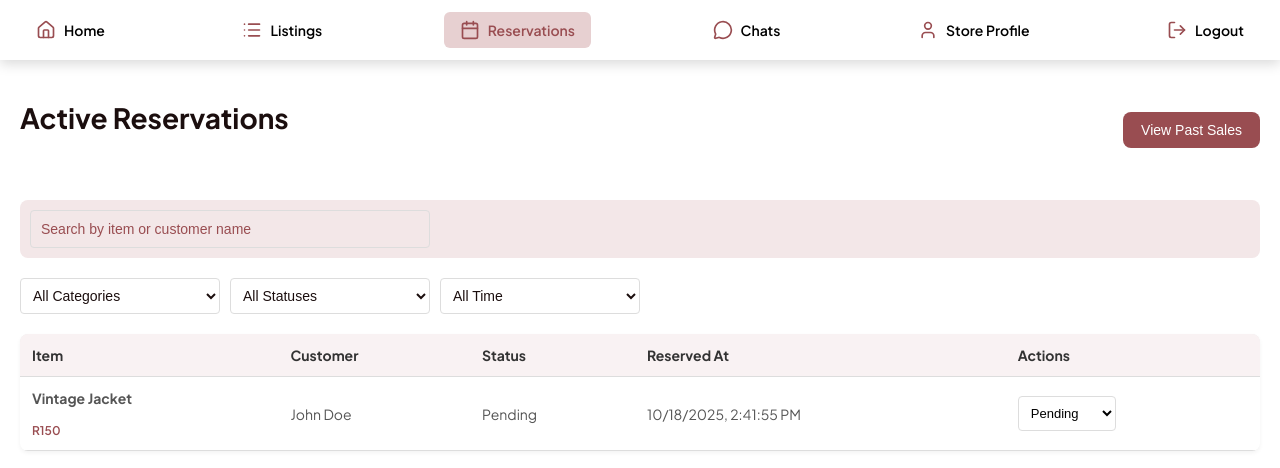
Test: StoreReservations › Search and Filtering › filters reservations by search term
Expected: the text "Vintage Jacket" is shown, [32,389,132,407]
In the field with placeholder "Search by item or customer name": (230, 229) [30,210,430,248], type "vintage"
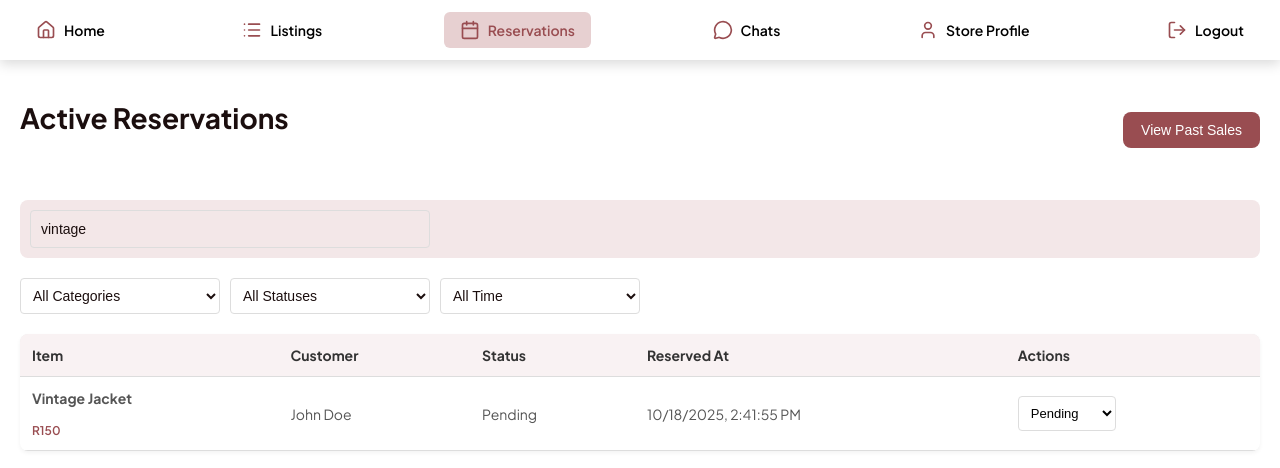
Expected: the text "Vintage Jacket" is shown, [32,389,132,407]
Replace the text in the field with placeholder "Search by item or customer name" with "nonexistent": (230, 229) [30,210,430,248]
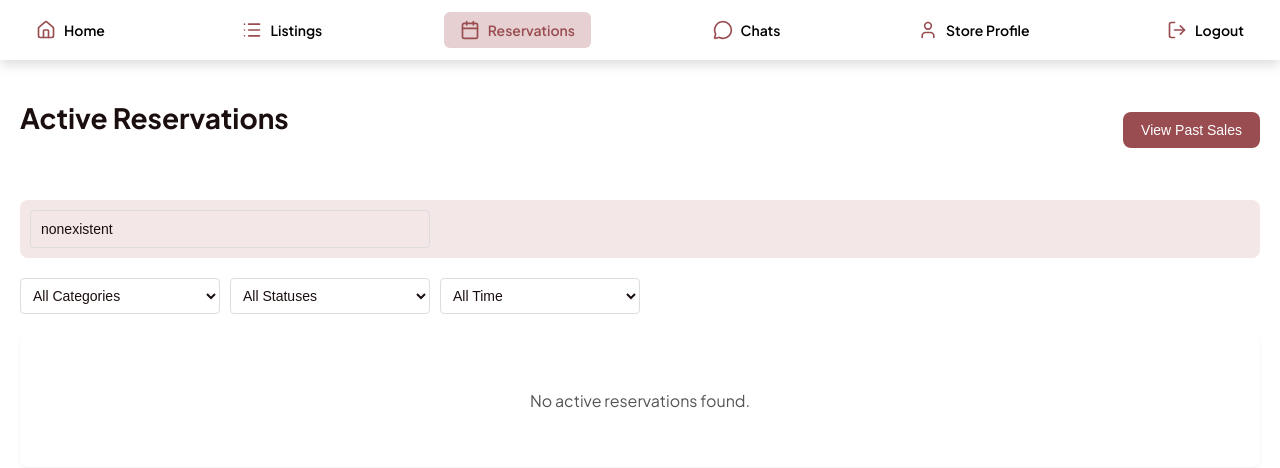
Now the text "Vintage Jacket" is not shown
